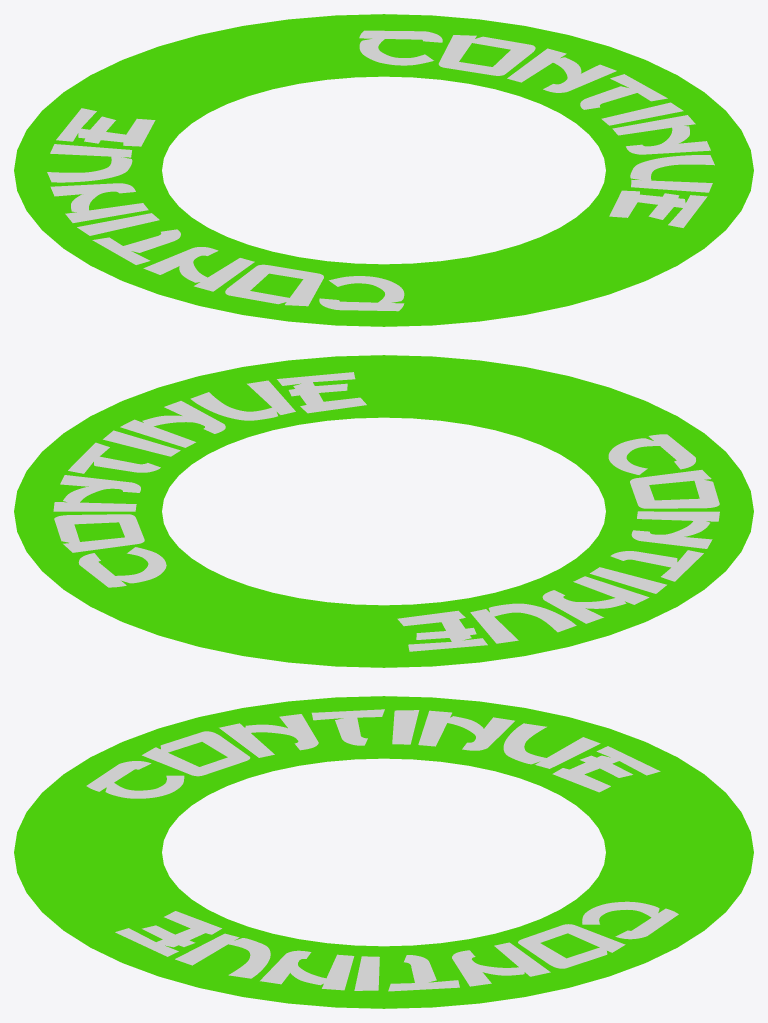
Rendered from Circle_Continue.fbx.
The picture shows the model from 3 angles, top to bottom: view 1: azimuth 30°, elevation 25°; view 2: azimuth 150°, elevation 25°; view 3: azimuth 270°, elevation 25°; orthographic projection.
Visible parts, largest first — view 1: Torus, Text, Text.001; view 2: Torus, Text, Text.001; view 3: Torus, Text, Text.001.
Part boxes in pixels (x1,y1,x2,y2): Torus: (14, 14, 753, 326); Text: (47, 108, 404, 311); Text.001: (359, 30, 714, 227); Torus: (14, 355, 753, 667); Text: (397, 434, 719, 651); Text.001: (53, 372, 366, 587); Torus: (14, 696, 753, 1008); Text: (86, 709, 660, 798); Text.001: (115, 901, 678, 991).
Bounding box in the file's own units: 1017 × 1.58 × 1017.
